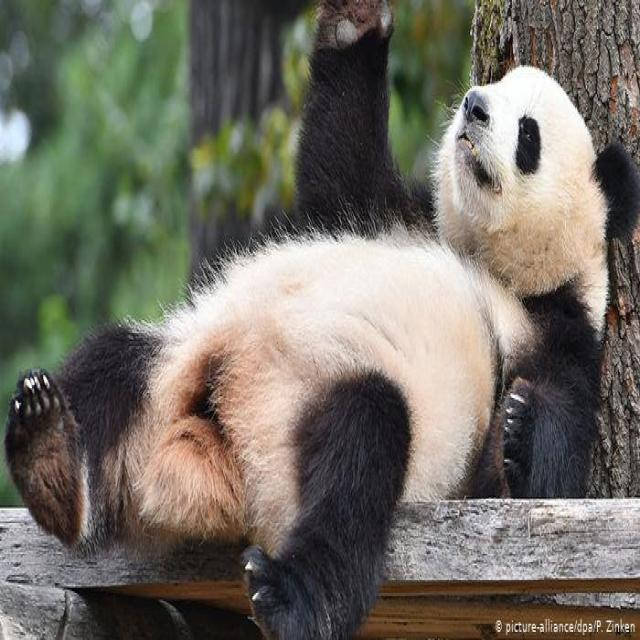Panda: (6, 39, 640, 640)
